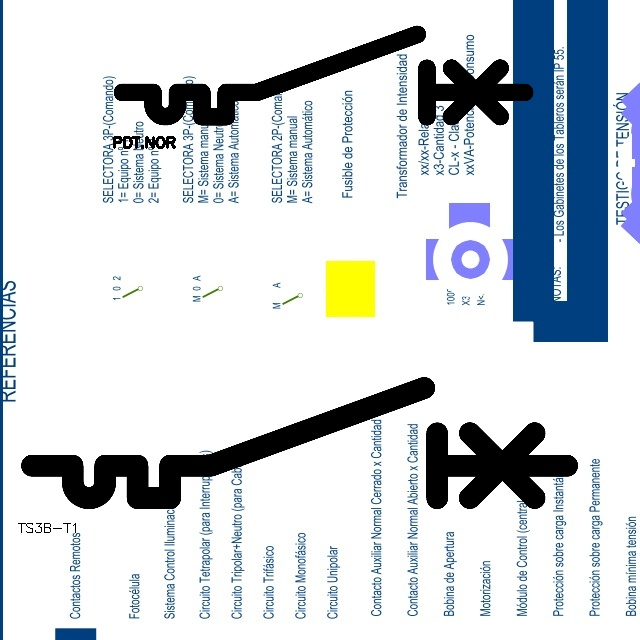interruptor_termomagnetico: (18, 374, 581, 512), (112, 24, 535, 127)
